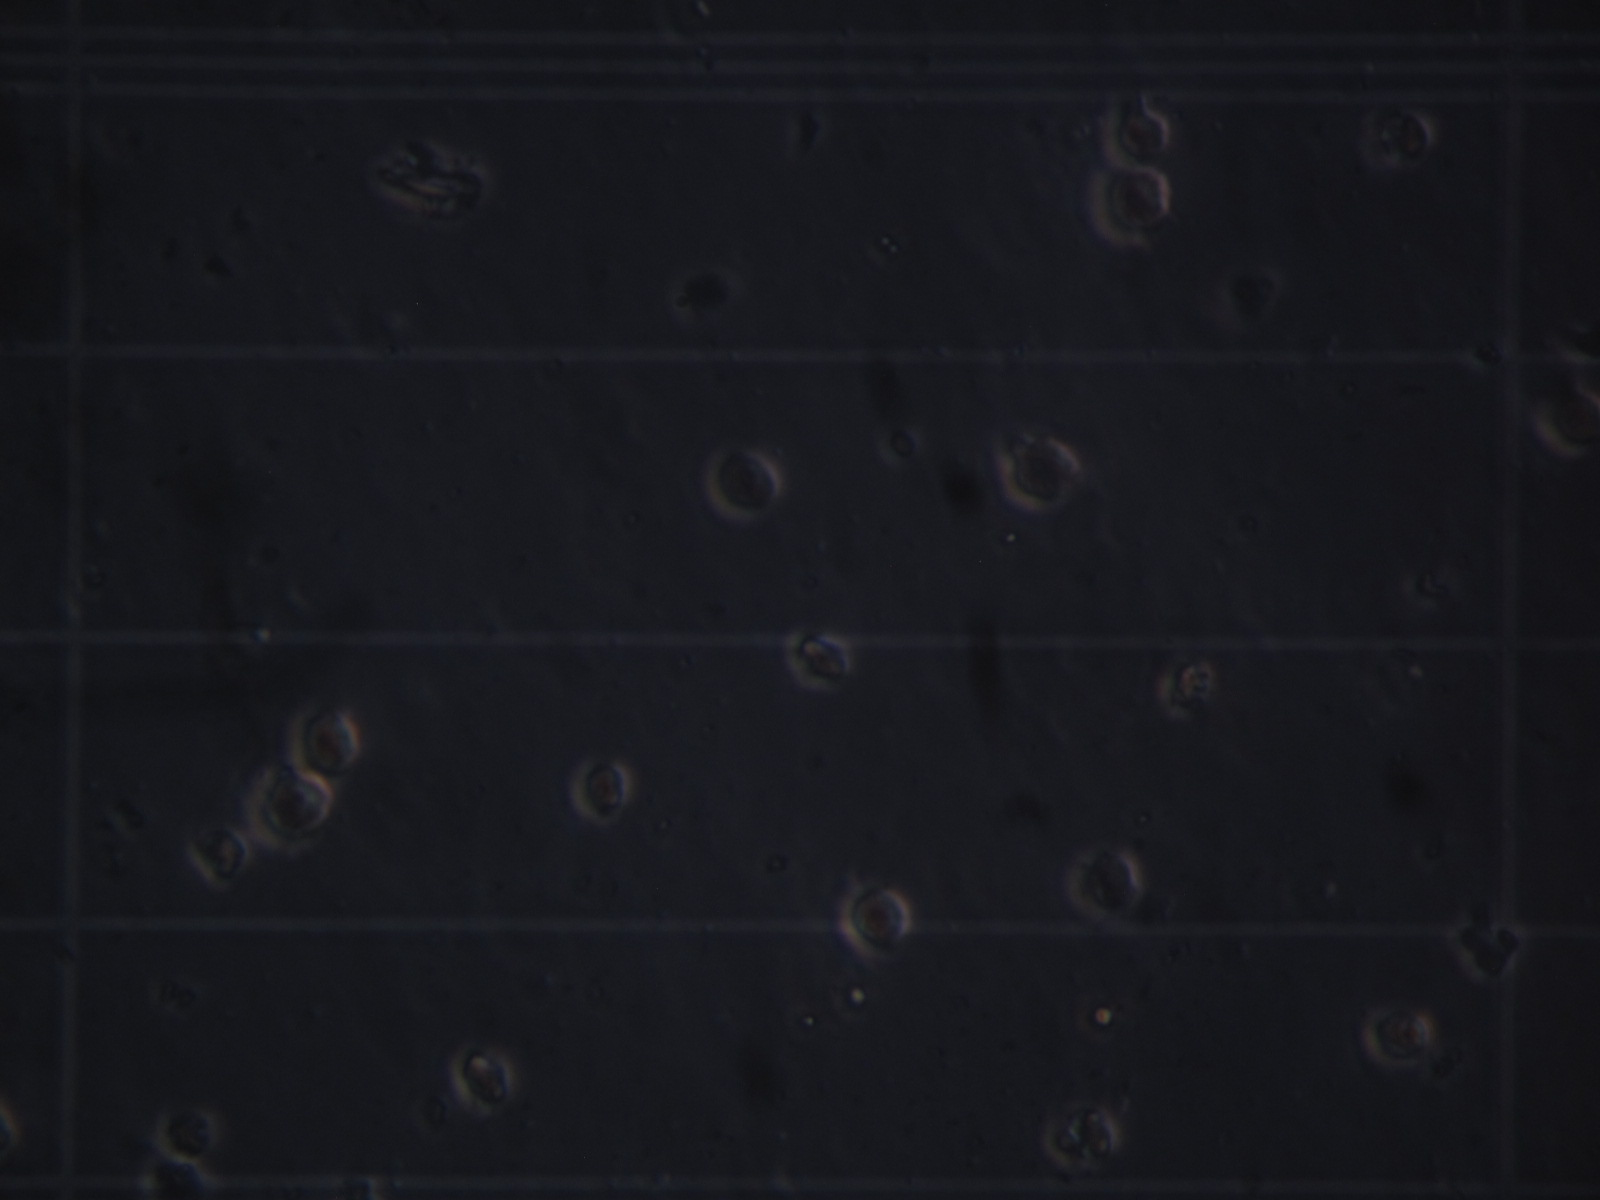hemo: (249, 761, 339, 855), (1087, 163, 1170, 246), (702, 445, 785, 524), (1000, 430, 1083, 509), (282, 701, 367, 779), (1041, 1102, 1124, 1177), (839, 881, 916, 961), (1067, 839, 1141, 920), (446, 1040, 519, 1116), (1102, 95, 1170, 171), (1364, 1002, 1441, 1070), (782, 626, 857, 691), (151, 1105, 229, 1163), (574, 756, 634, 829), (1371, 106, 1434, 169), (131, 1160, 224, 1200), (1158, 662, 1214, 720)
